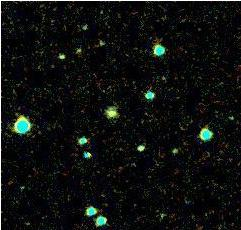star: (99, 96, 129, 126)
